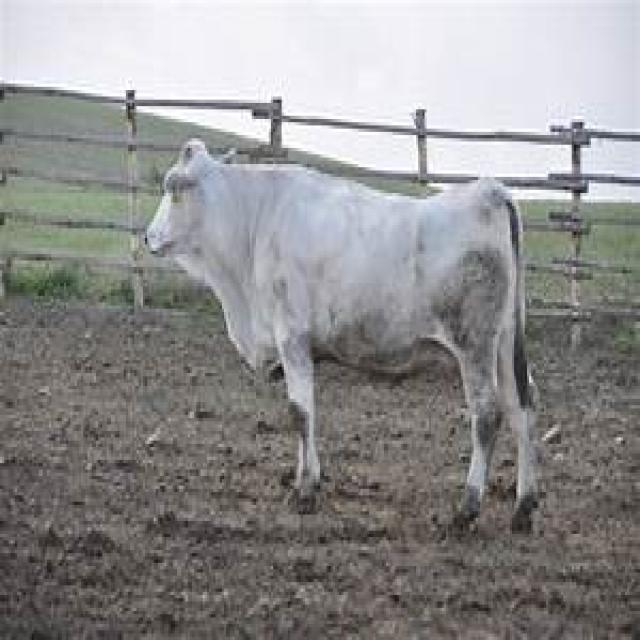cow: (148, 141, 538, 523)
